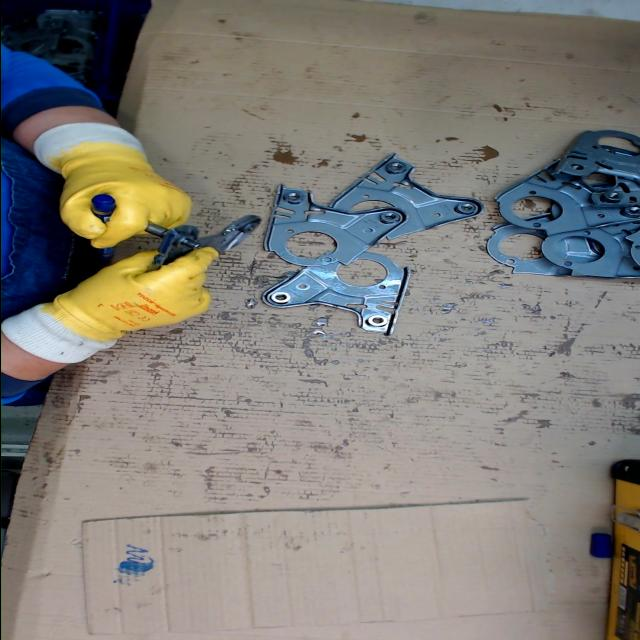hands: (56, 242, 218, 347), (52, 142, 194, 250)
